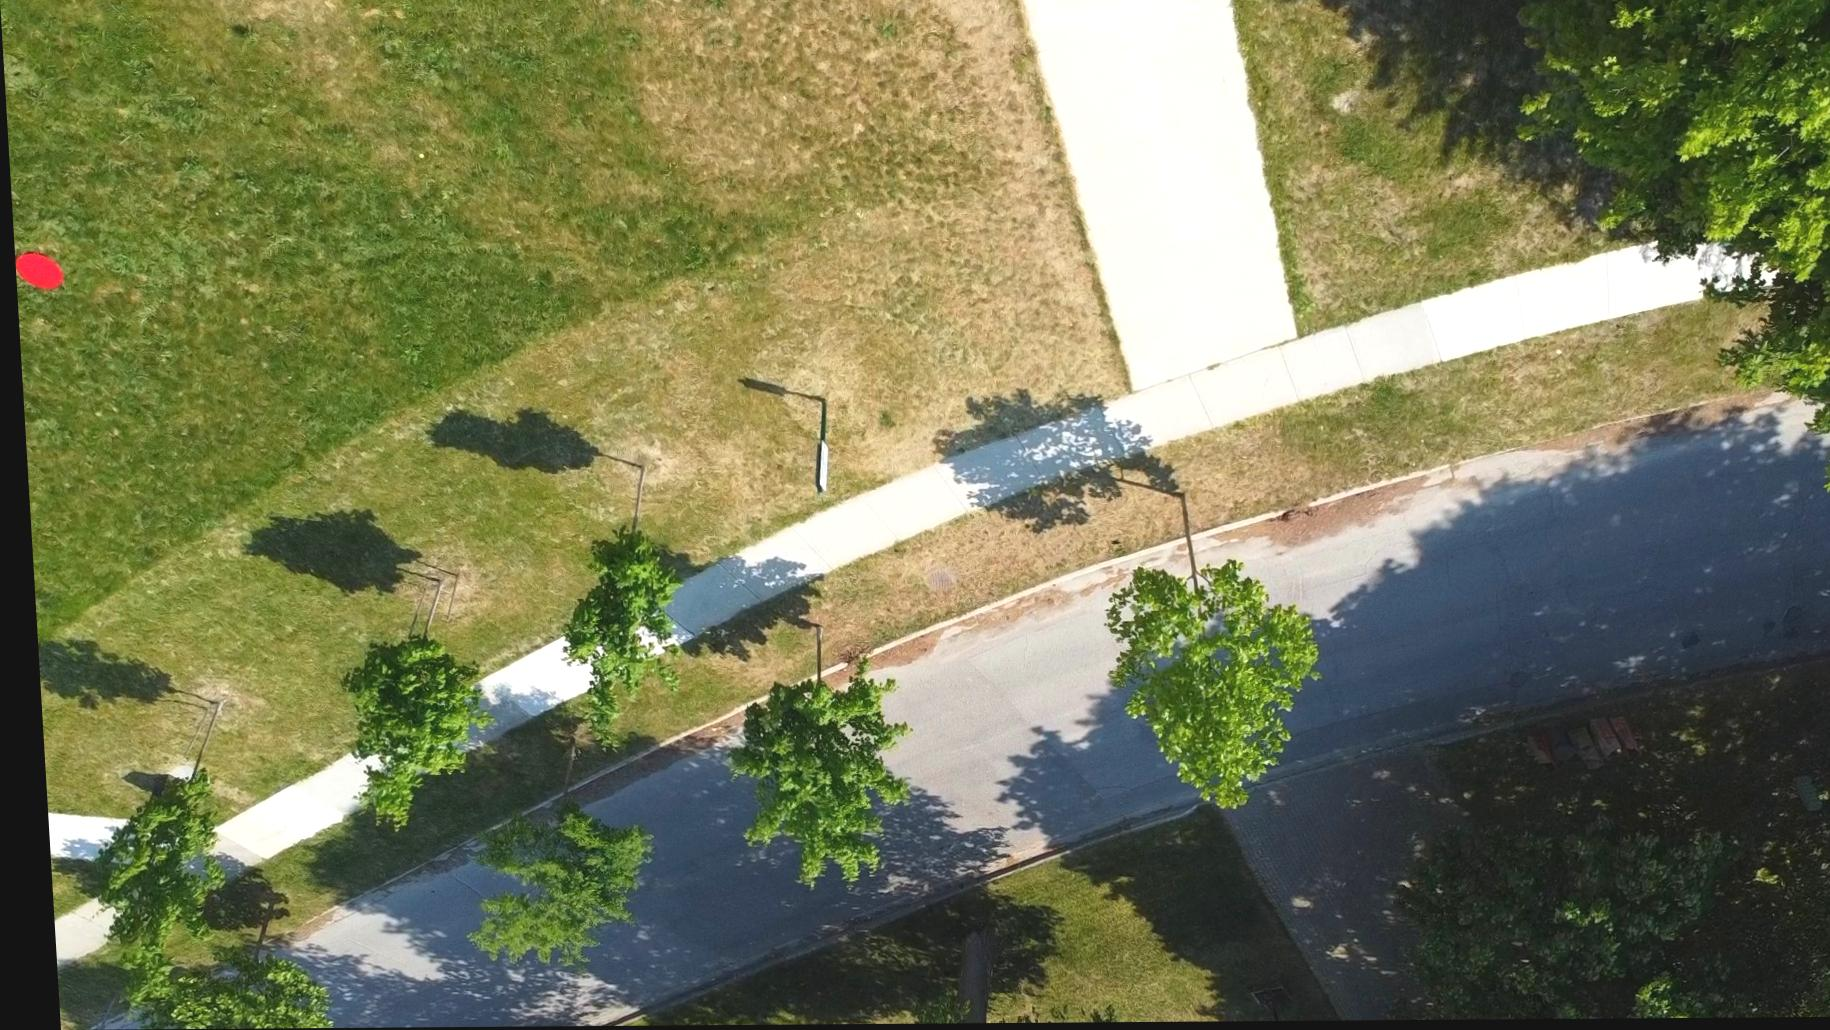Red: (11, 252, 62, 292)
